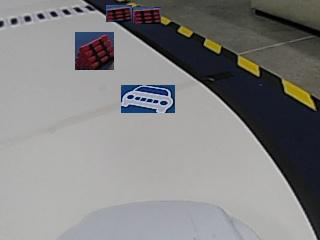crosswalk: (1, 3, 96, 29)
